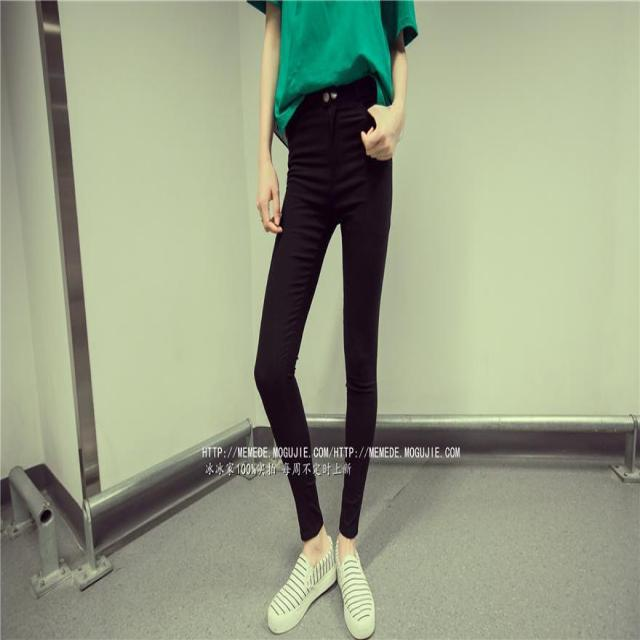short sleeve top: (281, 2, 419, 141)
trousers: (256, 78, 391, 542)
